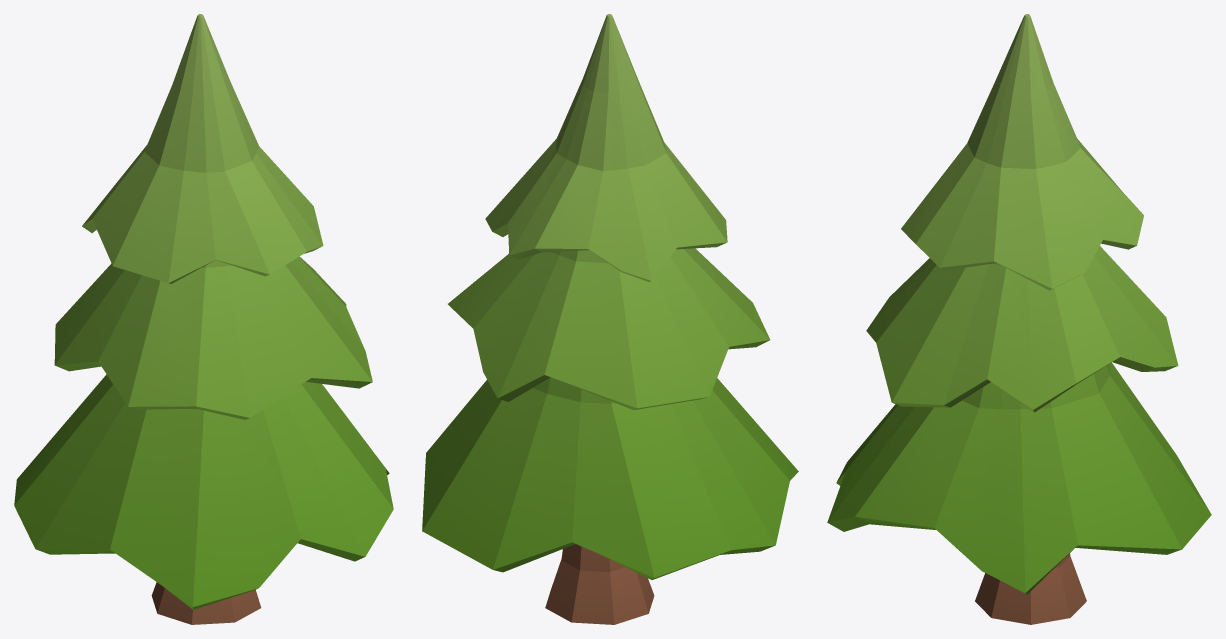
The model's file is fir-tree-medium.glb.
3 renders of one model, left to right at view 1: azimuth 30°, elevation 25°; view 2: azimuth 150°, elevation 25°; view 3: azimuth 270°, elevation 25°, orthographic.
Visible parts, largest first — view 1: fir_tree_medium; view 2: fir_tree_medium; view 3: fir_tree_medium.
Part boxes in pixels (x1,y1,x2,y2): fir_tree_medium: (14, 14, 393, 624); fir_tree_medium: (422, 14, 798, 624); fir_tree_medium: (827, 14, 1211, 624).
Bounding box in the file's own units: 3.62 × 5.84 × 3.5.
1 material, 1 textured.
